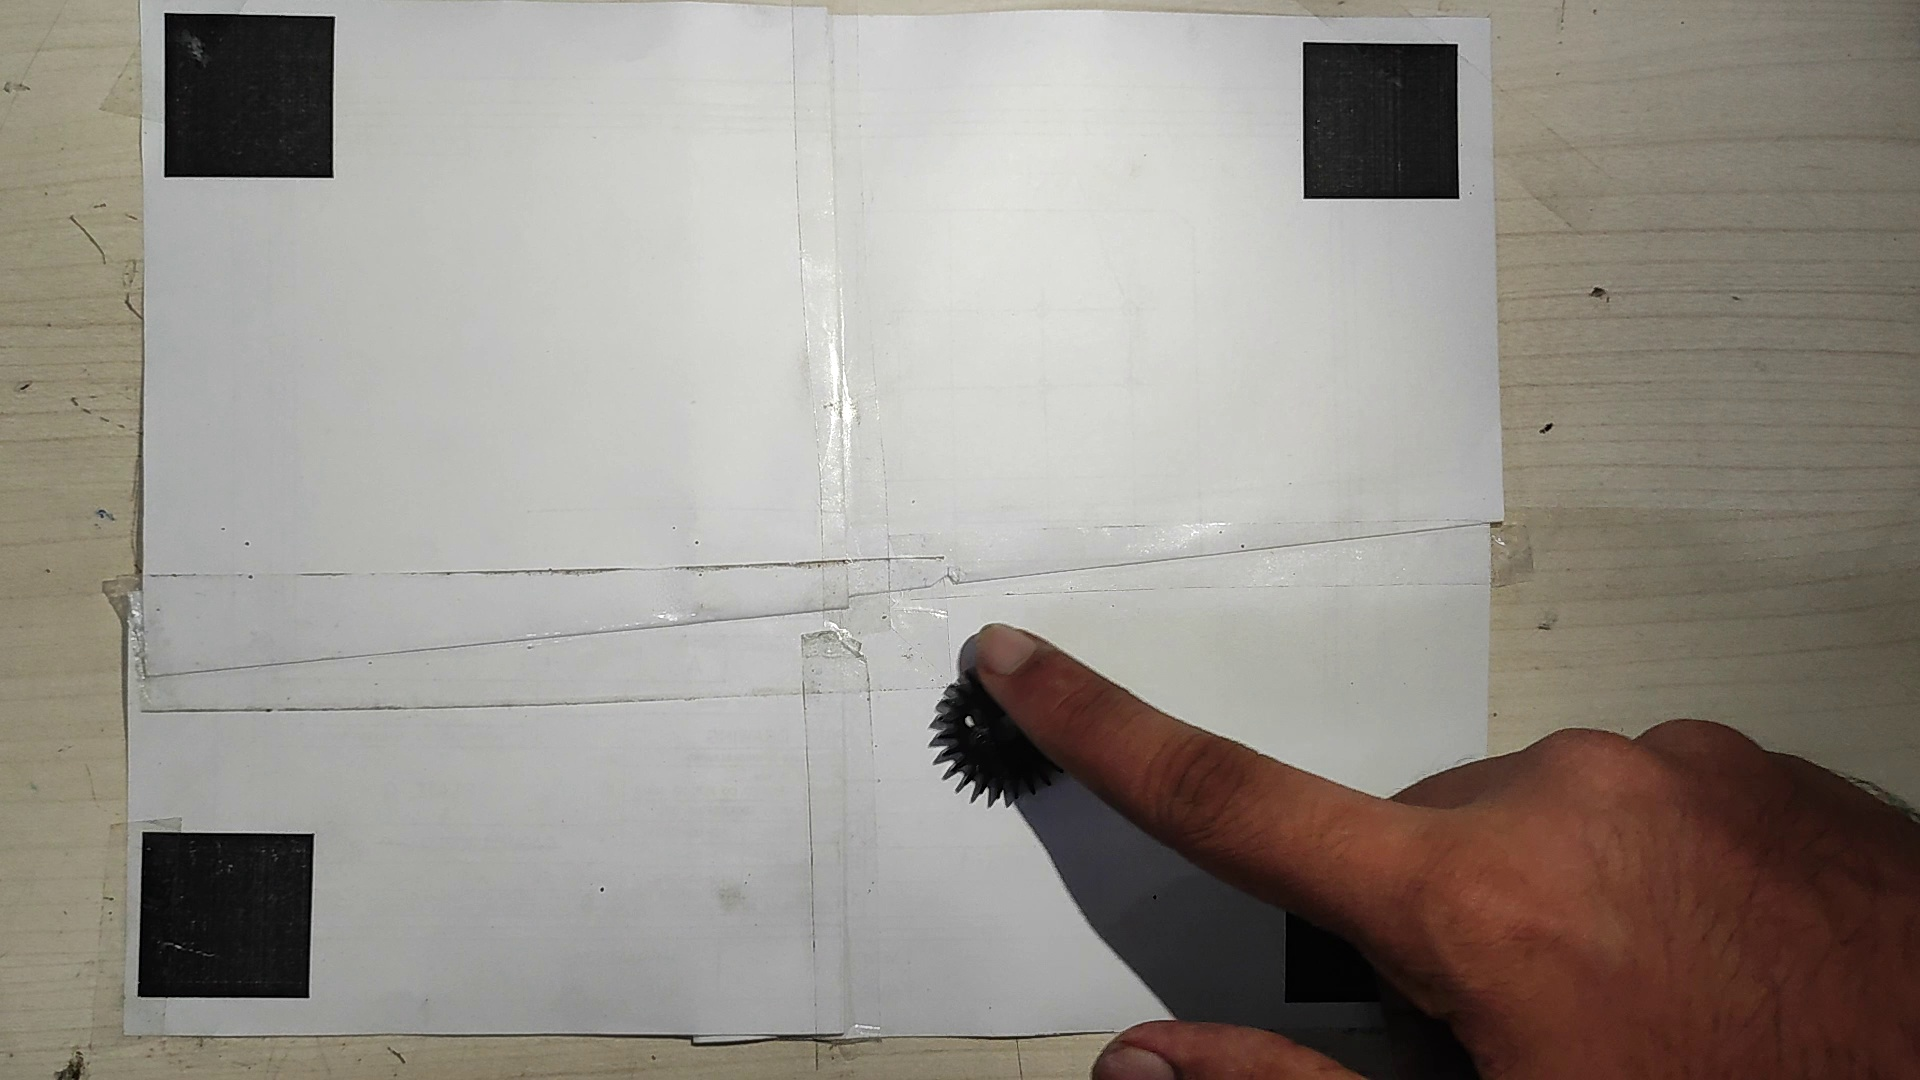Gear: (928, 659, 1071, 807)
